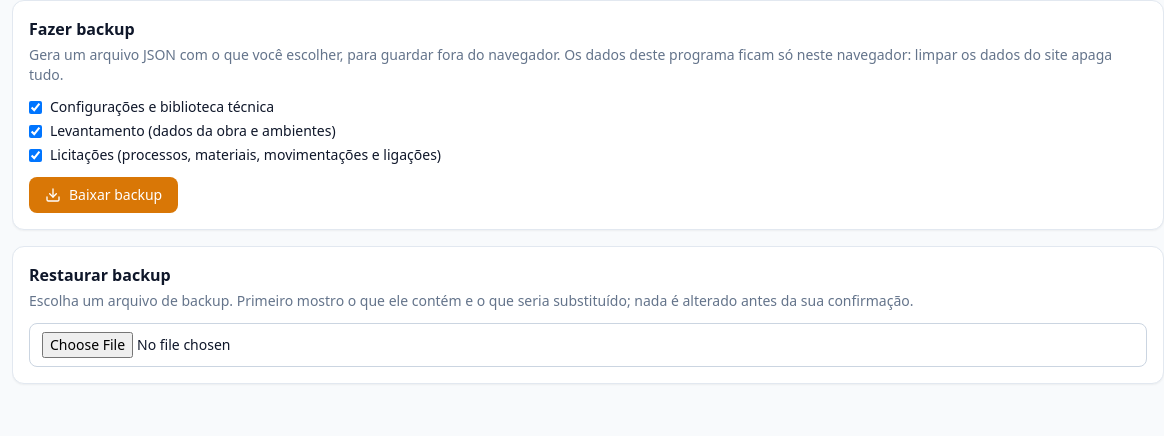
Scenario: fazer backup › baixa um arquivo com configurações, levantamento e licitações atuais
Click the button "Baixar backup".
click(104, 195)  # box [29,177,178,213]
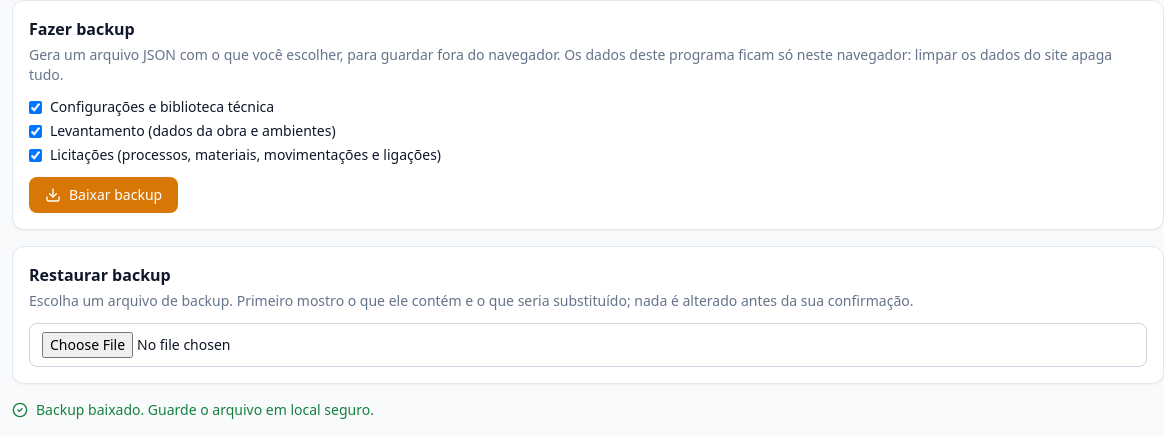
Expected: the text "Backup baixado. Guarde o arquivo em local seguro." is shown, [12,400,374,419]
